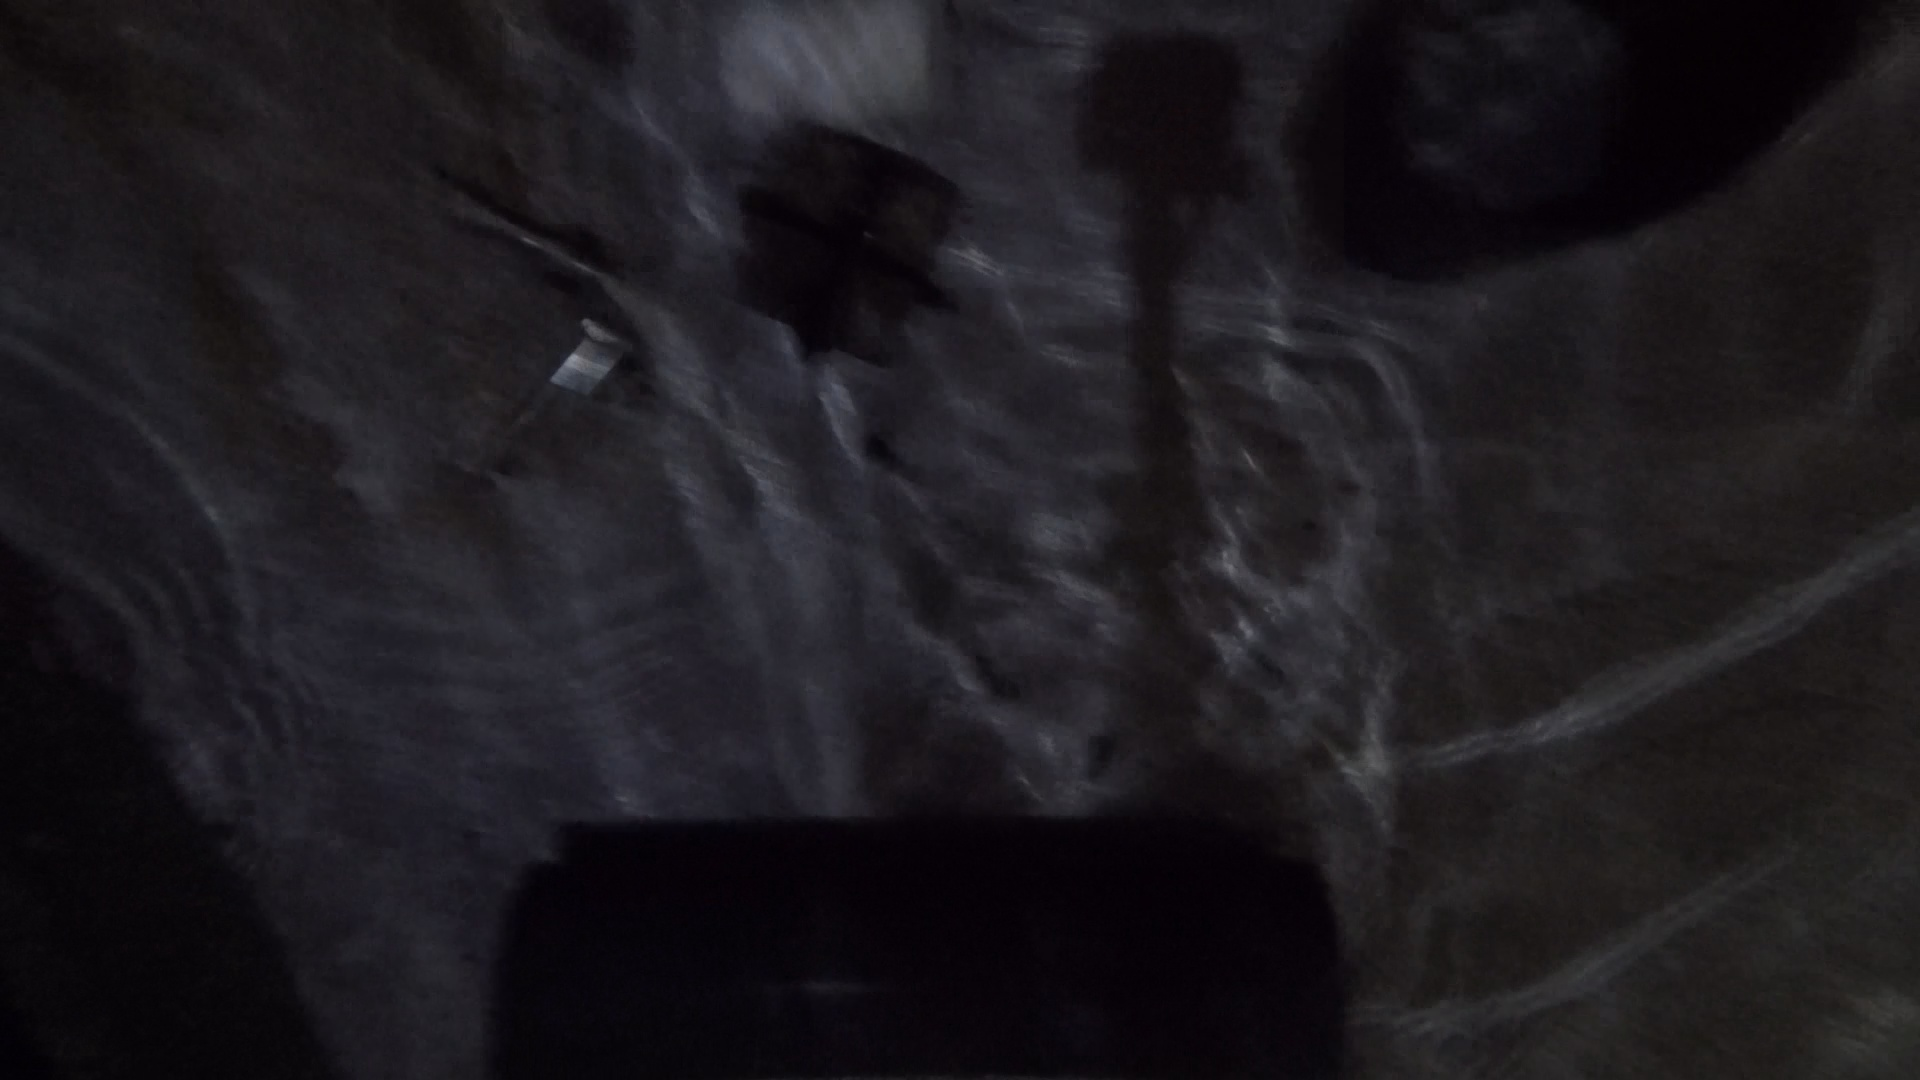bolt: (479, 315, 628, 479), (440, 179, 607, 289)
led_block: (727, 123, 957, 363)
pipe: (485, 847, 1346, 1079), (1288, 1, 1698, 284), (715, 1, 957, 119)
